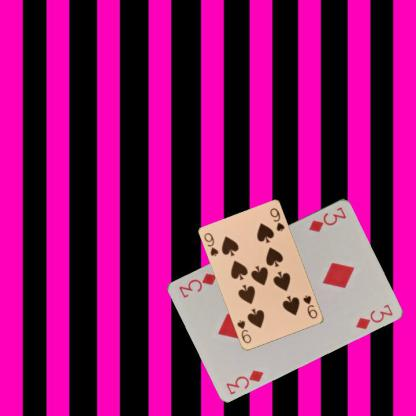3d: (306, 204, 348, 233), (224, 366, 265, 395)
9s: (300, 293, 319, 320), (202, 230, 220, 258)
